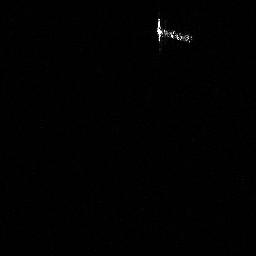ship: (152, 15, 195, 45)
